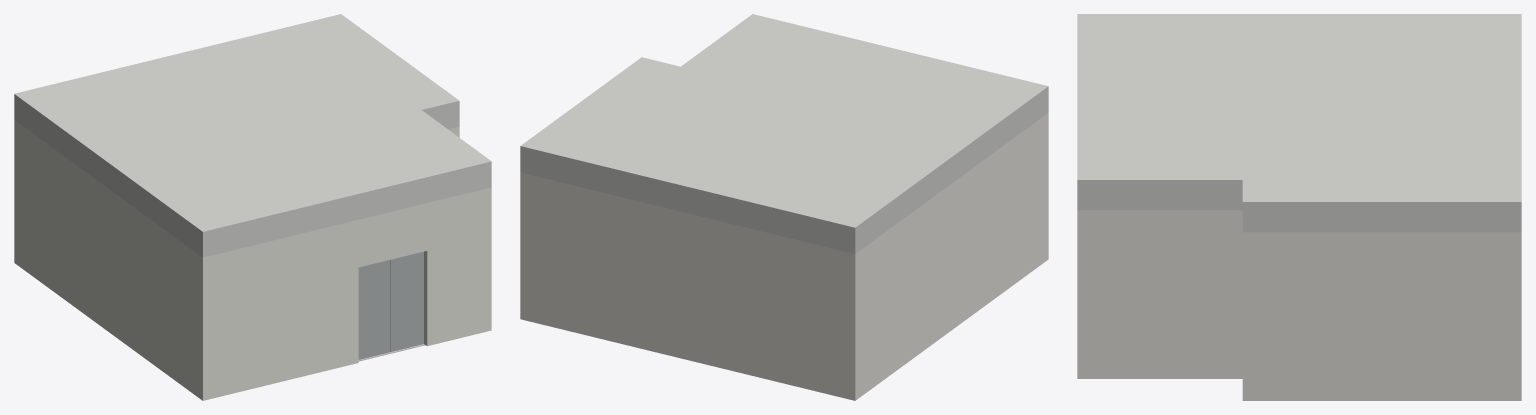
File: lab.glb
3 renders of one model, left to right at view 1: azimuth 30°, elevation 25°; view 2: azimuth 150°, elevation 25°; view 3: azimuth 270°, elevation 25°, orthographic. The views are drawn at different scales.
Visible parts, largest first — view 1: room_ceiling, room_wall_S, room_wall_W, door_leaf_E, door_leaf_W, room_wall_ES, room_wall_EI; view 2: room_ceiling, room_wall_N, room_wall_W, room_wall_E; view 3: room_ceiling, room_wall_E, room_wall_EI, room_wall_ES, room_wall_N, room_wall_S.
Boxes of the visible parts, <box> form: room_ceiling: <box>14,14,491,233</box>; room_wall_S: <box>200,163,491,400</box>; room_wall_W: <box>14,96,206,400</box>; door_leaf_E: <box>390,251,424,352</box>; door_leaf_W: <box>358,260,389,359</box>; room_wall_ES: <box>424,103,459,137</box>; room_wall_EI: <box>488,163,491,330</box>; room_ceiling: <box>520,14,1048,229</box>; room_wall_N: <box>520,148,857,400</box>; room_wall_W: <box>851,88,1048,400</box>; room_wall_E: <box>520,148,524,319</box>; room_ceiling: <box>1077,14,1521,204</box>; room_wall_E: <box>1242,204,1521,400</box>; room_wall_EI: <box>1077,182,1242,378</box>; room_wall_ES: <box>1242,204,1247,400</box>; room_wall_N: <box>1516,204,1521,400</box>; room_wall_S: <box>1077,183,1082,378</box>.
Size of the model in its own units: 8.6 by 4.27 by 8.6.
Materials: 57 (8 with a texture image).
